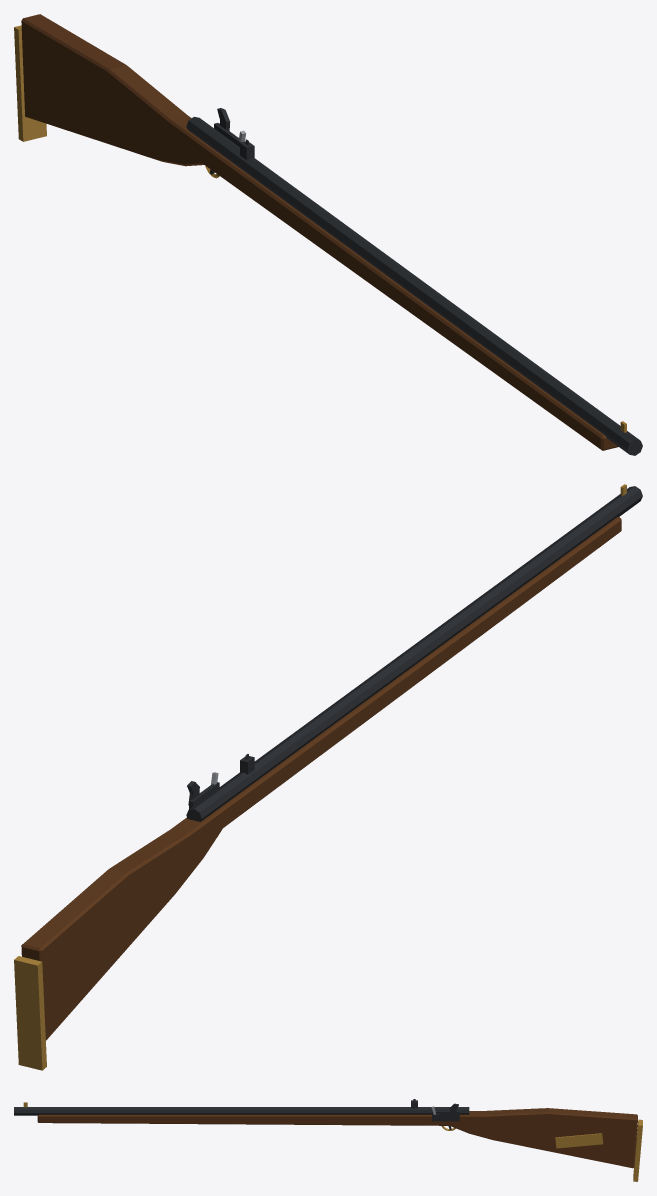
Rendered from rifle.glb.
3 renders of one model, top to bottom at view 1: azimuth 30°, elevation 25°; view 2: azimuth 150°, elevation 25°; view 3: azimuth 270°, elevation 25°, orthographic. The views are drawn at different scales.
Visible parts, largest first — view 1: rifle; view 2: rifle; view 3: rifle.
Boxes of the visible parts, x1,y1,x2,y2 form: rifle: (14, 14, 642, 455); rifle: (14, 484, 642, 1070); rifle: (14, 1099, 642, 1181).
Bounding box in the file's own units: 0.044 × 0.2242 × 1.6.
